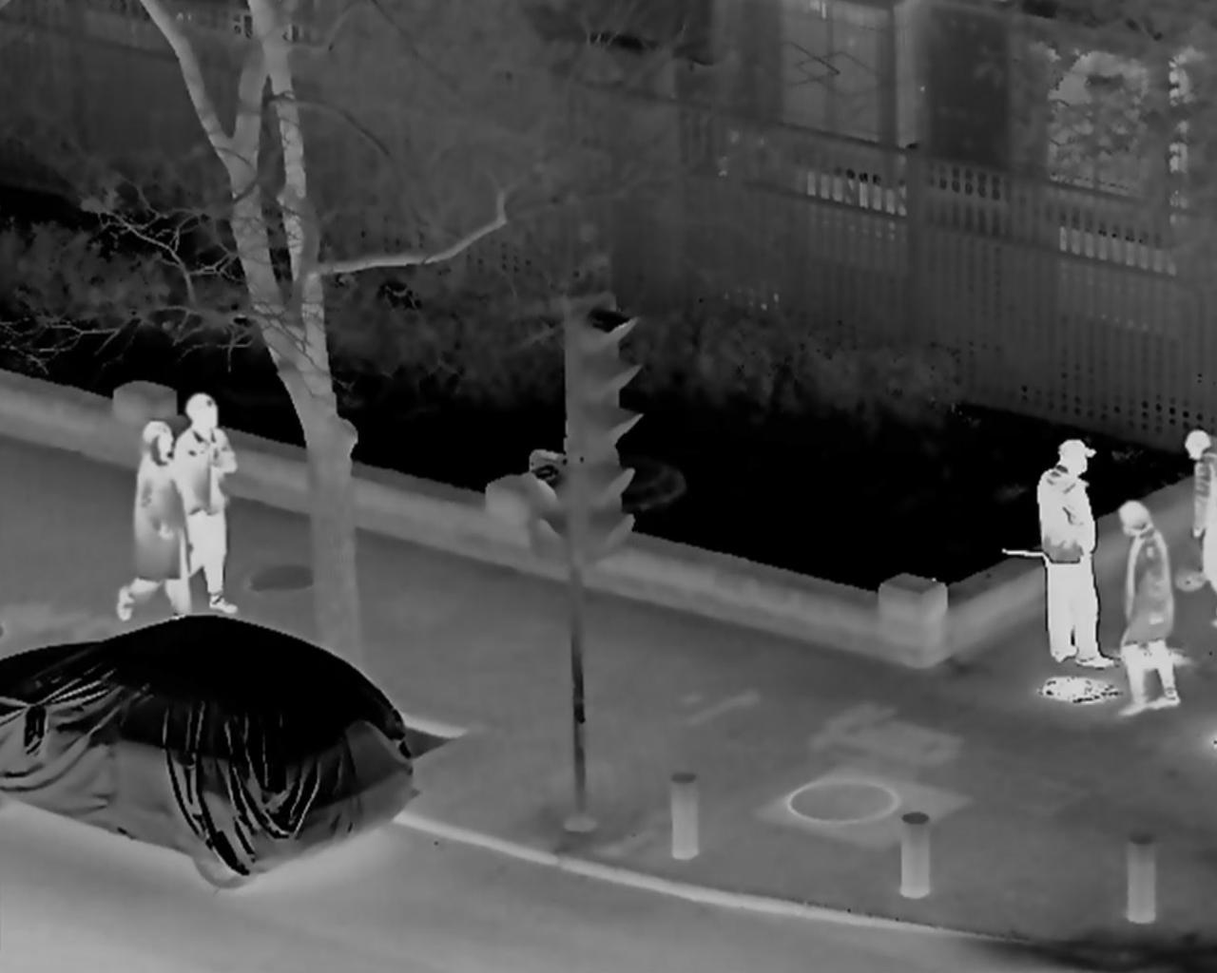person: (1035, 439, 1112, 671), (168, 391, 241, 618), (1110, 502, 1183, 720), (115, 421, 189, 632), (1183, 431, 1217, 620)
